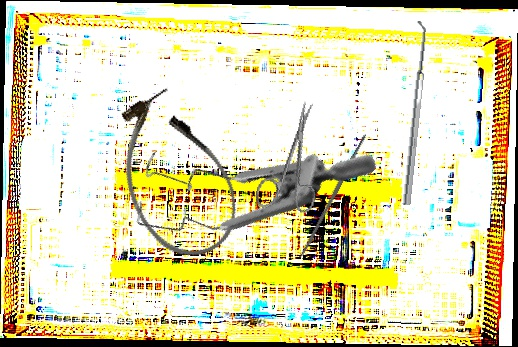Cannula: (95, 77, 255, 274)
Iris Scissors: (252, 94, 340, 221)
Scalpel Handle: (297, 132, 370, 260)
Spatula Surgical: (395, 20, 430, 206)
Speculum: (108, 47, 380, 310)
